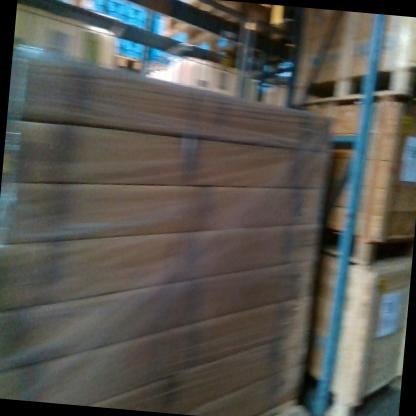pallet: (161, 0, 273, 59), (223, 18, 302, 79)
